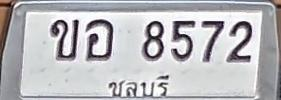2: (226, 20, 252, 62)
5: (171, 20, 195, 62)
7: (201, 20, 224, 62)
8: (142, 20, 164, 61)
A02: (50, 19, 79, 60)
A43: (85, 19, 113, 60)
CBI: (105, 74, 171, 100)
